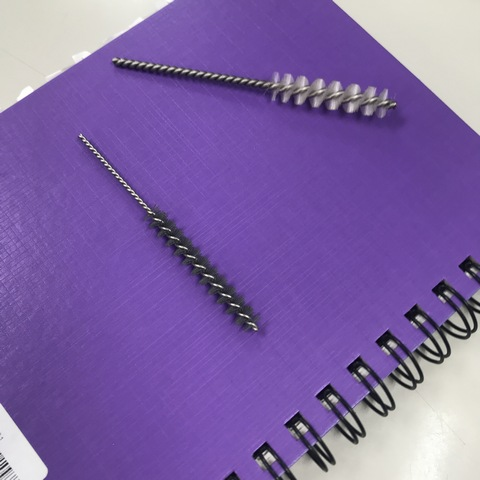Twist Brush-A: (75, 131, 267, 336)
Twist Brush-B: (107, 53, 401, 121)
